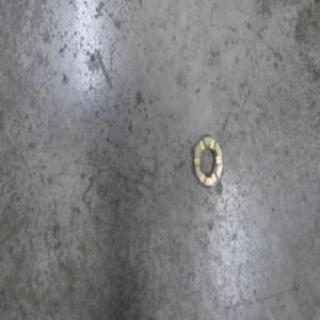Nuttrack_idkeyframe: (192, 131, 222, 189)
